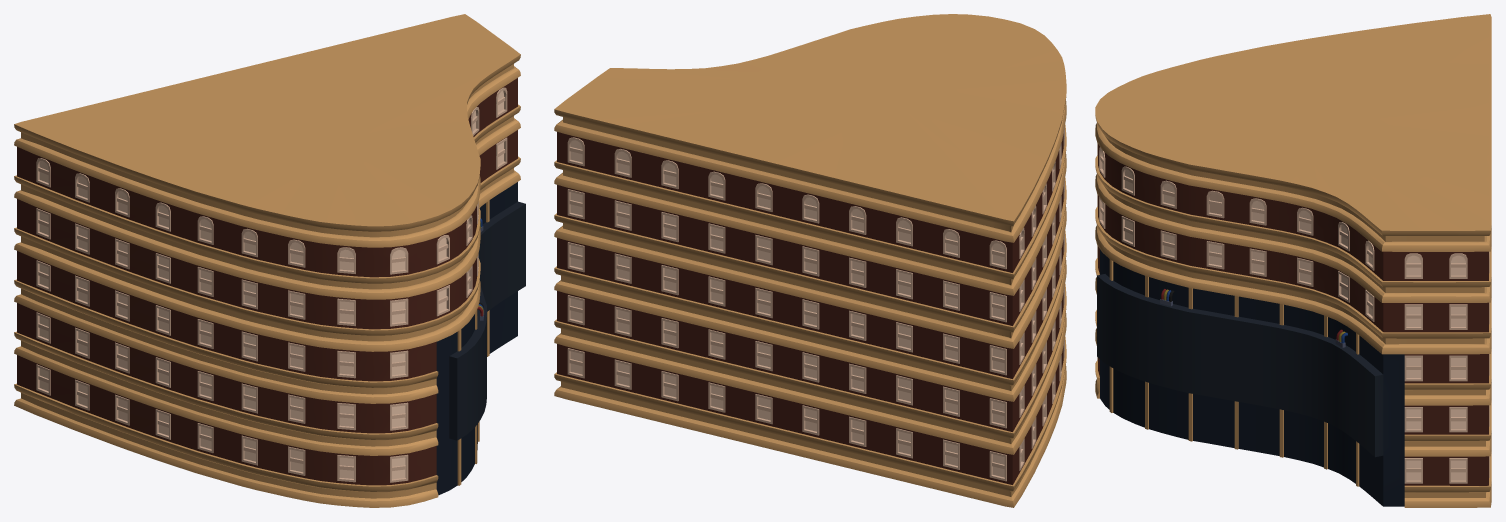
The model's file is building_curved_a1.fbx.
3 views of the same model, side by side, from view 1: azimuth 30°, elevation 25°; view 2: azimuth 150°, elevation 25°; view 3: azimuth 270°, elevation 25° (orthographic). The views are drawn at different scales.
Parts seen in each view (by area): view 1: building_curved_a1; view 2: building_curved_a1; view 3: building_curved_a1.
Boxes of the visible parts, left/top/right/bottom form: building_curved_a1: left=14, top=14, right=525, bottom=507; building_curved_a1: left=554, top=14, right=1066, bottom=507; building_curved_a1: left=1095, top=14, right=1491, bottom=507.
Size of what is drawn, in the model's own units: 4280 by 5559 by 3302.
